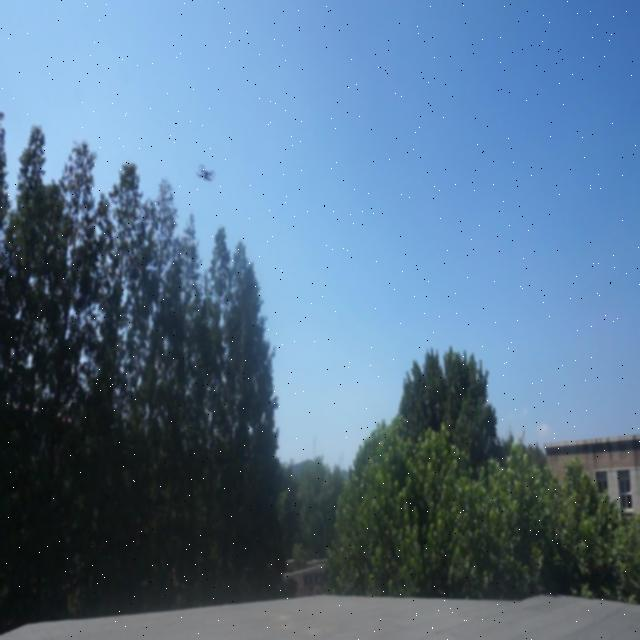UAV: (197, 164, 216, 180)
